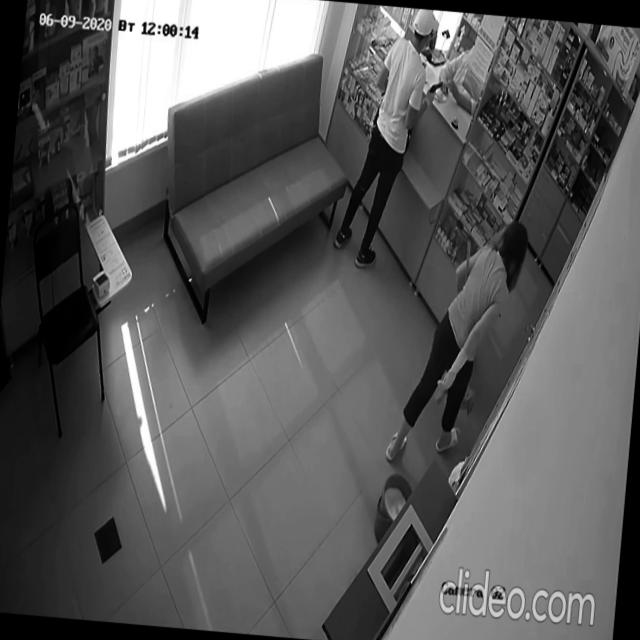gun: (428, 78, 444, 95)
person: (384, 209, 531, 472)
person with a gun: (331, 2, 448, 276)
